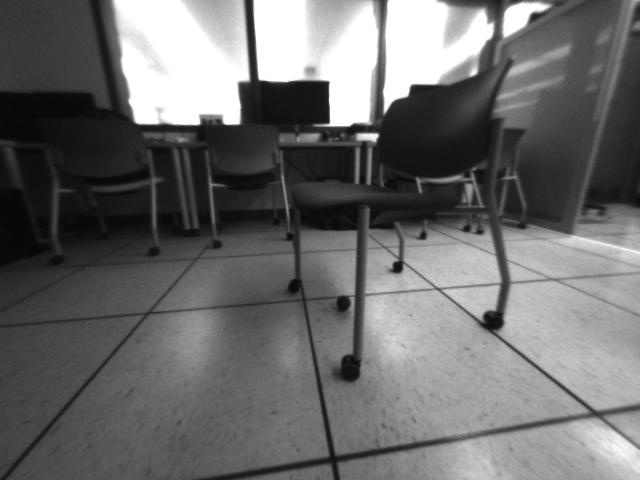dogtoy: (331, 289, 355, 317)
